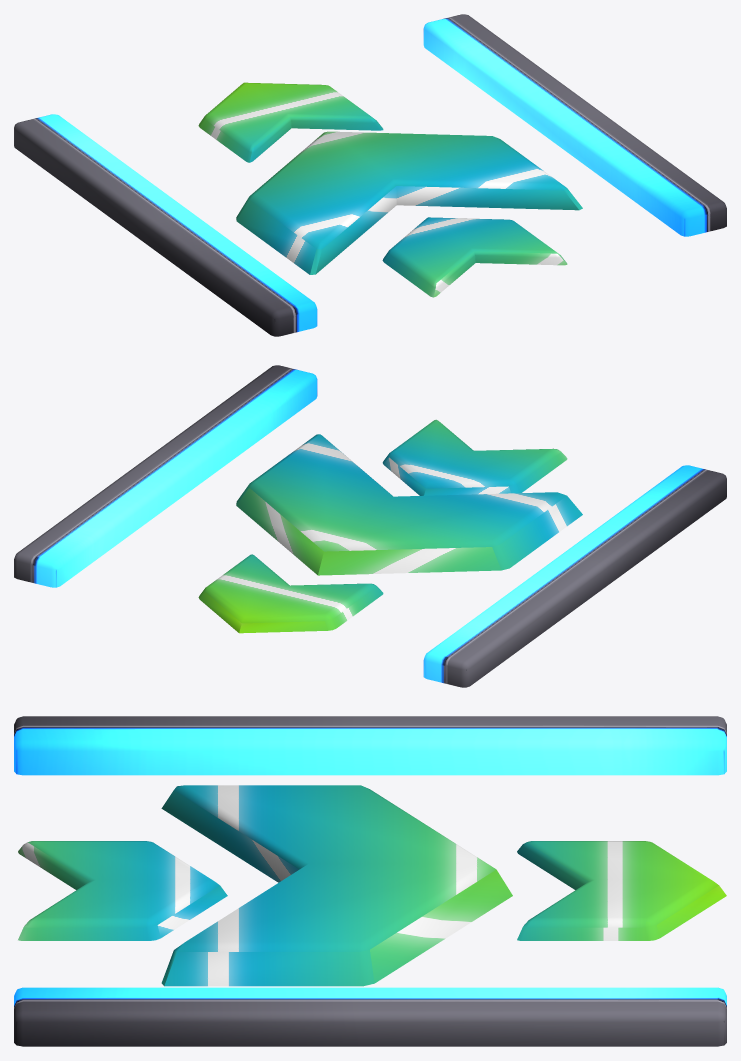
File: Accelerator.fbx
The picture shows the model from 3 angles, top to bottom: view 1: azimuth 30°, elevation 25°; view 2: azimuth 150°, elevation 25°; view 3: azimuth 270°, elevation 25°; orthographic projection. The views are drawn at different scales.
Visible parts, largest first — view 1: SpeedBoosterVar02; view 2: SpeedBoosterVar02; view 3: SpeedBoosterVar02.
Boxes of the visible parts, bbox=[...] form: SpeedBoosterVar02: bbox=[14, 14, 726, 336]; SpeedBoosterVar02: bbox=[14, 365, 726, 687]; SpeedBoosterVar02: bbox=[14, 716, 726, 1046].
Bounding box in the file's own units: 2000 × 100 × 2000.
Materials: 2 (2 with a texture image).
